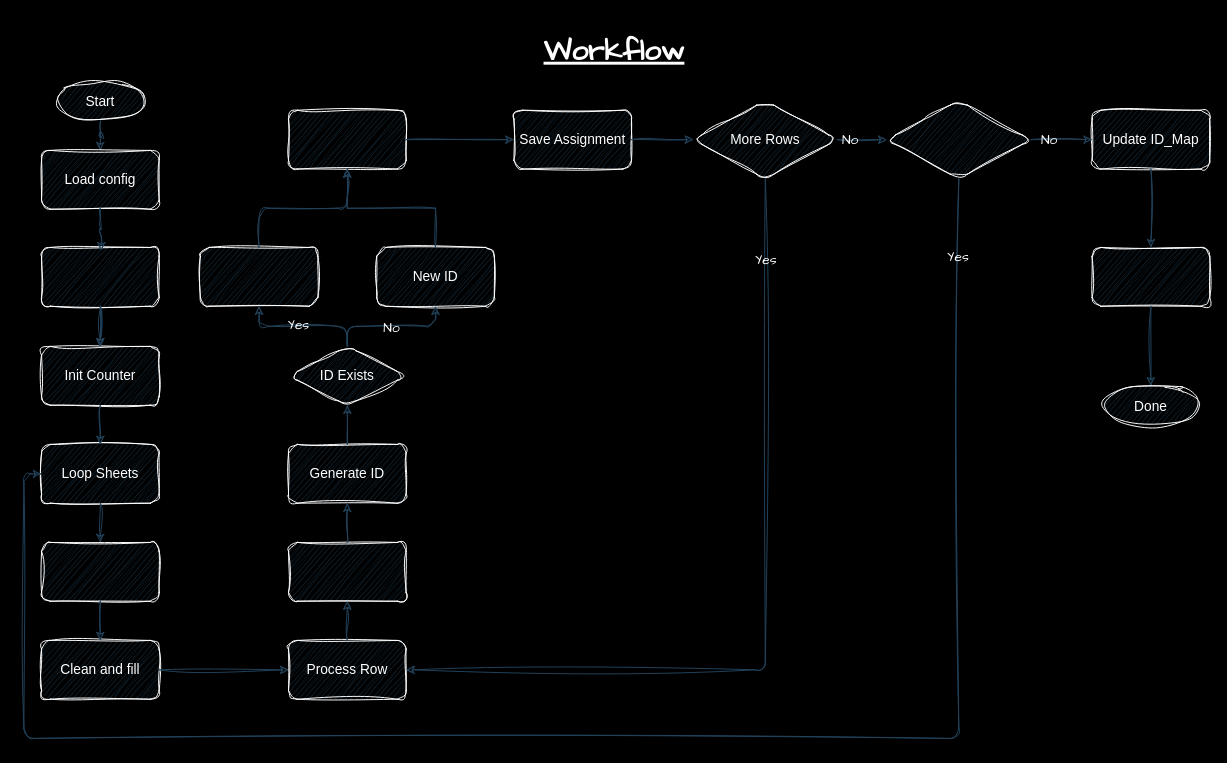
This 1227x763 diagram has some shape labels left out. The shapes that lost their labels are listed below. From the top down, each one's centre as x and y in pixels, then its label:
At pixel 347 139: "Split Users".
At pixel 958 139: "More Sheets".
At pixel 100 276: "Read ID_Map".
At pixel 258 276: "Reuse ID".
At pixel 1150 276: "Write Output".
At pixel 100 571: "Read data".
At pixel 347 571: "Normalize Data".
